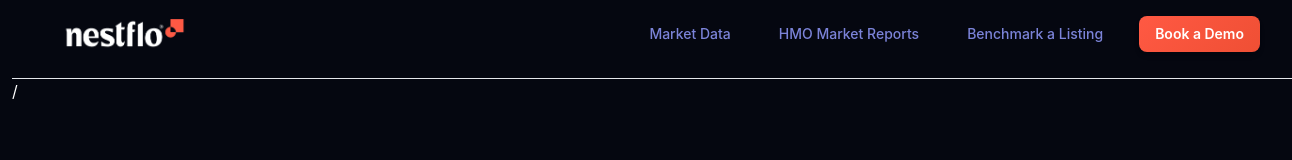
Scenario: Nav links are router links, not full-page anchors › routes the SPA to the destination when "HMO Market Reports" is clicked
Click the link "HMO Market Reports": click(849, 34) [779,25,919,42]
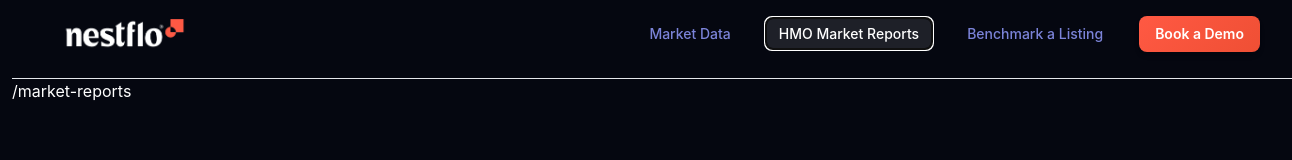
Check: the text with test id "location-probe" reads "/market-reports", box [12,81,131,101]
